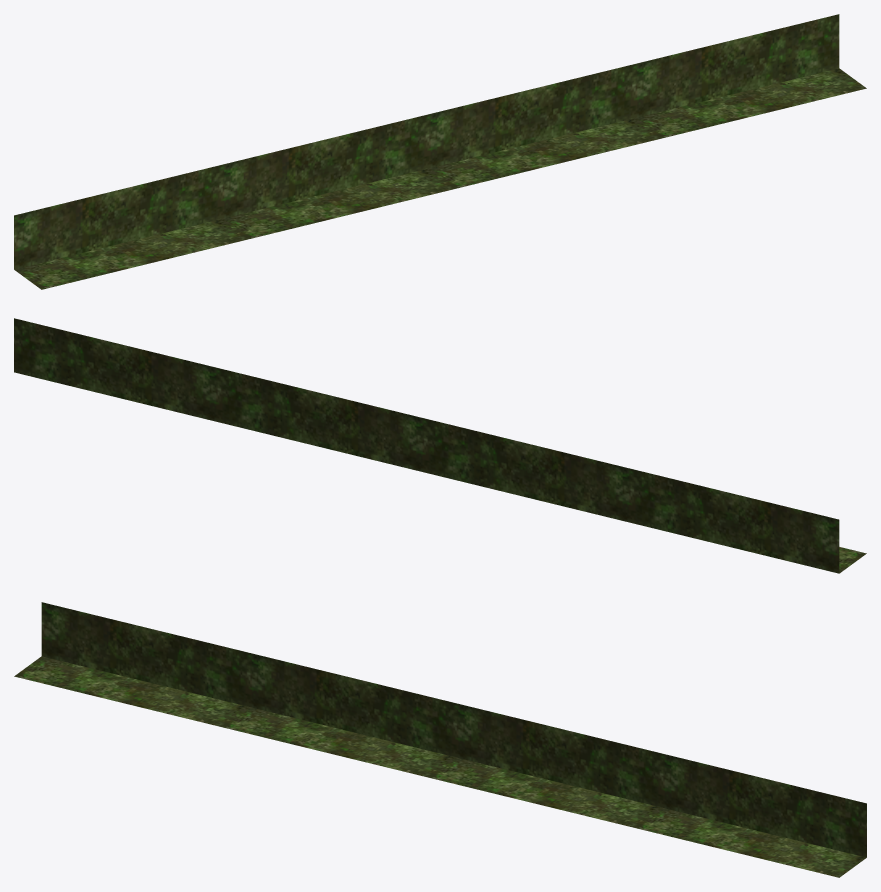
The model's file is OVERHILL_A_01_OBJECT119.fbx.
3 views of the same model, one above another, from view 1: azimuth 30°, elevation 25°; view 2: azimuth 150°, elevation 25°; view 3: azimuth 330°, elevation 25° (orthographic).
Parts seen in each view (by area): view 1: OVERHILL_A_01_OBJECT119; view 2: OVERHILL_A_01_OBJECT119; view 3: OVERHILL_A_01_OBJECT119.
Part boxes in pixels (x1,y1,x2,y2): OVERHILL_A_01_OBJECT119: (14, 14, 866, 289); OVERHILL_A_01_OBJECT119: (14, 318, 866, 573); OVERHILL_A_01_OBJECT119: (14, 602, 866, 877).
Bounding box in the file's own units: 119935 × 7518 × 6956.
Materials: 1 (1 with a texture image).
